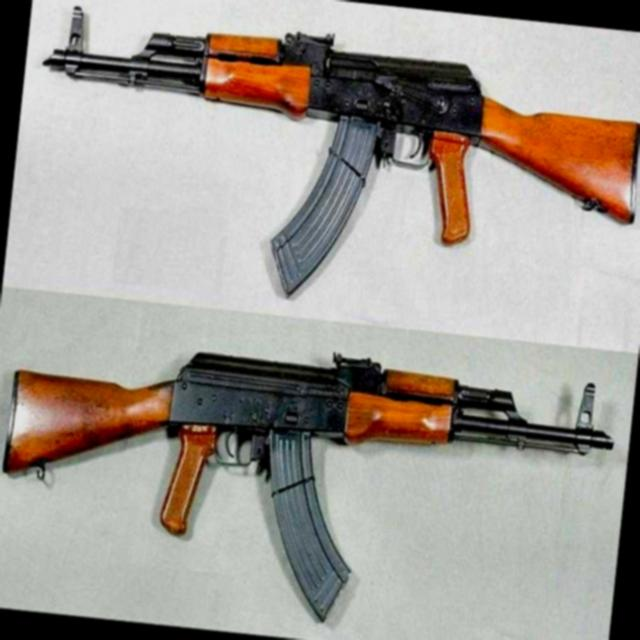ak: (15, 0, 640, 339)
